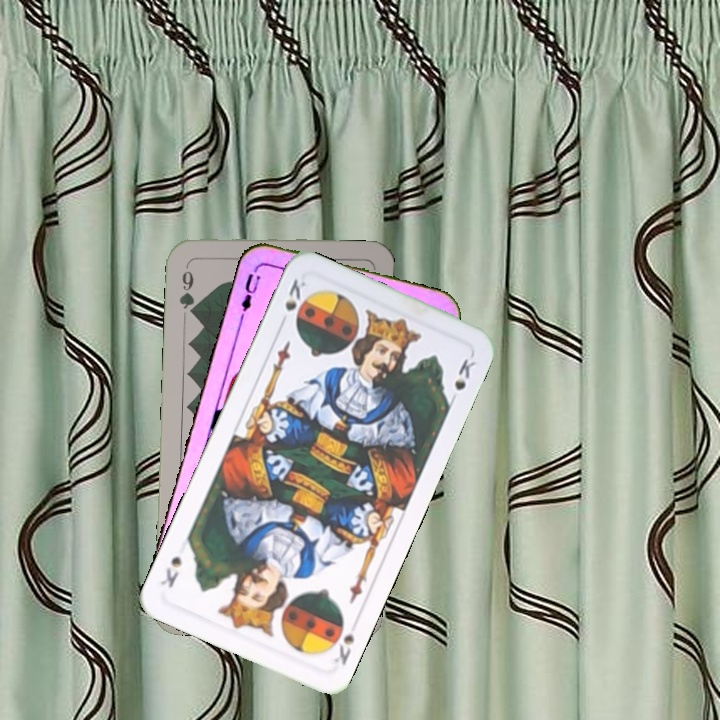EU: (237, 261, 264, 319)
G9: (175, 259, 198, 319)
SK: (275, 274, 309, 330), (330, 630, 358, 668)
